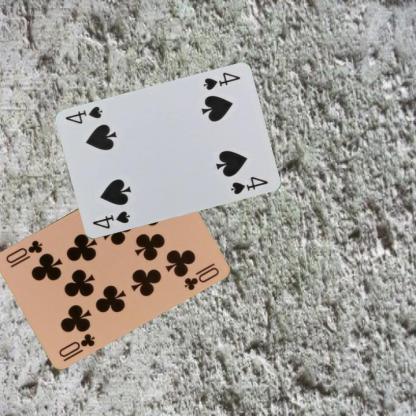10c: (56, 330, 97, 358)
4s: (200, 70, 242, 92), (90, 208, 131, 230)
